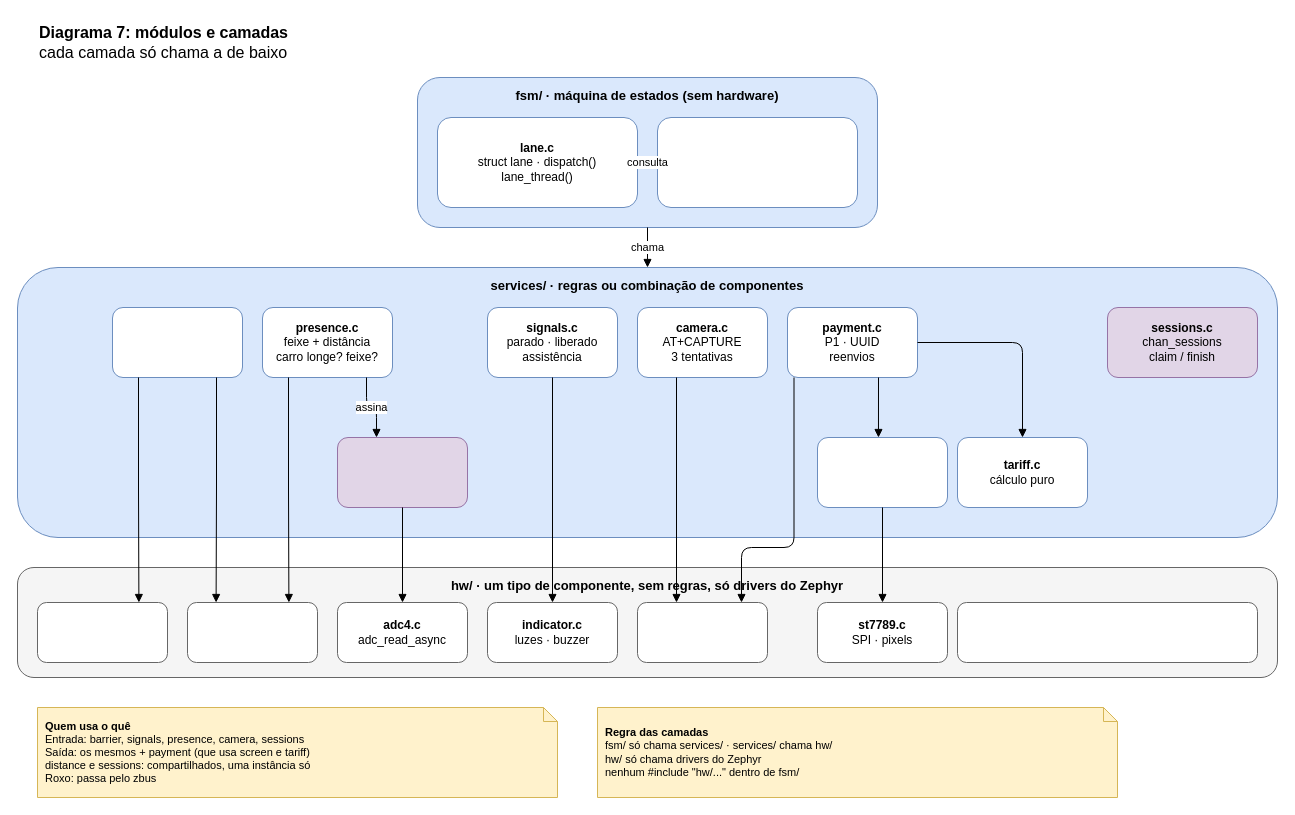
Image size: 1295x815. Some labels were removed from this diagram. Here are the shapes that lost their labels. From the top down, the centre of each, then its label:
(757,162): states.c entry_table · exit_table on_enter_X() · guardas
(177,342): barrier.c abrir · fechar · parar contraditórios
(402,472): distance.c dono do ADC4 publica chan_distance
(882,472): screen.c tela de cobrança
(102,632): motor.c enable · direção
(252,632): sensor.c entrada com EXTI
(702,632): uart_line.c RX → linha · TX
(1107,632): lane_hw.c instâncias: aliases do devicetree (fim_superior, feixe, buzzer…)
